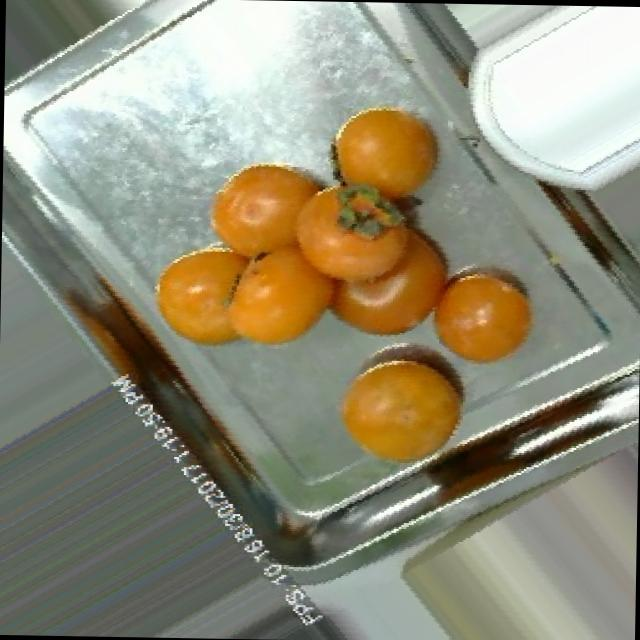Fruit: (123, 220, 350, 370), (294, 196, 483, 354), (318, 336, 490, 483), (185, 142, 375, 271), (304, 84, 466, 224), (416, 248, 556, 382)
